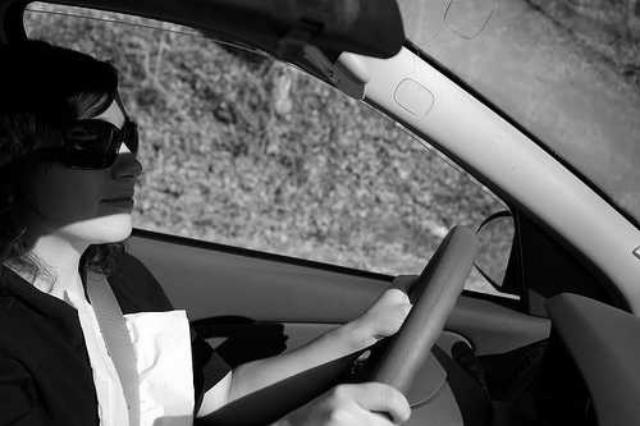Seatbelt: (84, 260, 144, 426)
